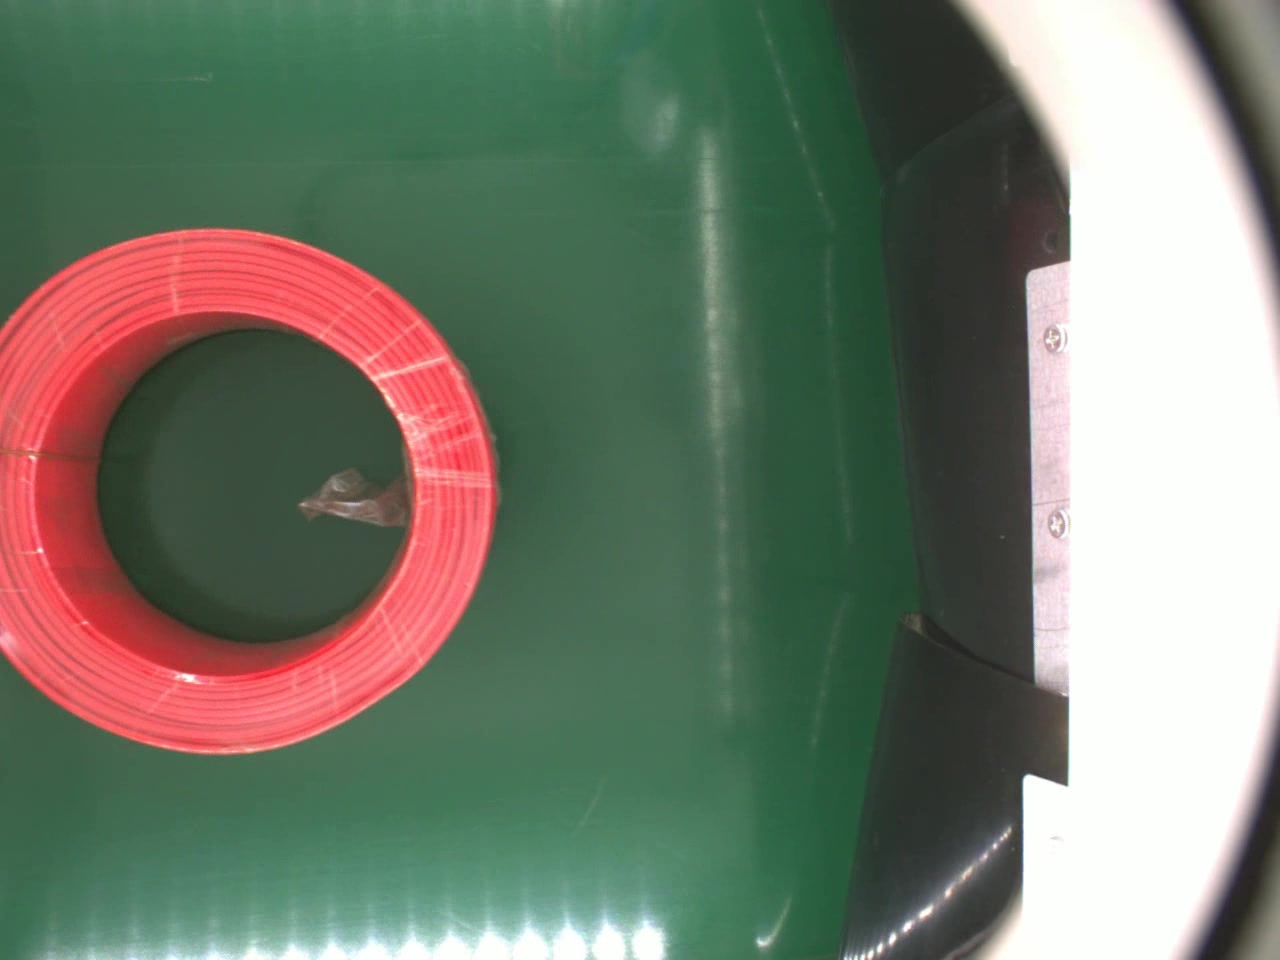red: (0, 225, 494, 756)
